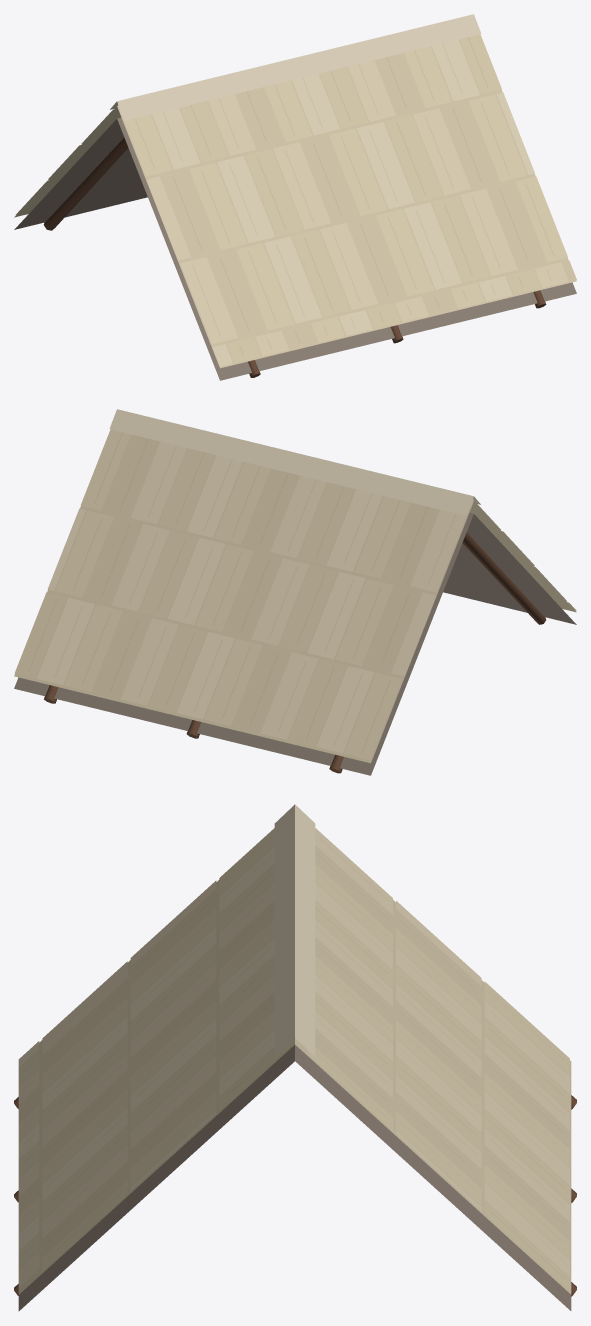
Rendered from Roof_Ridge_45.glb.
3 views of the same model, one above another, from view 1: azimuth 30°, elevation 25°; view 2: azimuth 150°, elevation 25°; view 3: azimuth 270°, elevation 25° (orthographic). The views are drawn at different scales.
Parts seen in each view (by area): view 1: _MeshInstance3D_3515, _MeshInstance3D_3520, _MeshInstance3D_3511, _MeshInstance3D_3512; view 2: _MeshInstance3D_3511, _MeshInstance3D_3519, _MeshInstance3D_3515, _MeshInstance3D_3516; view 3: _MeshInstance3D_3515, _MeshInstance3D_3511, _MeshInstance3D_3519, _MeshInstance3D_3520.
Part boxes in pixels (bbox=[...]): _MeshInstance3D_3515: bbox=[117, 34, 576, 380]; _MeshInstance3D_3520: bbox=[117, 14, 481, 120]; _MeshInstance3D_3511: bbox=[14, 104, 147, 229]; _MeshInstance3D_3512: bbox=[44, 137, 128, 230]; _MeshInstance3D_3511: bbox=[14, 429, 473, 775]; _MeshInstance3D_3519: bbox=[109, 409, 473, 515]; _MeshInstance3D_3515: bbox=[443, 500, 576, 624]; _MeshInstance3D_3516: bbox=[462, 532, 546, 624]; _MeshInstance3D_3515: bbox=[18, 828, 294, 1311]; _MeshInstance3D_3511: bbox=[295, 828, 571, 1310]; _MeshInstance3D_3519: bbox=[295, 804, 315, 1056]; _MeshInstance3D_3520: bbox=[274, 804, 294, 1056].
Bounding box in the file's own units: 3 × 1.7 × 3.06.
